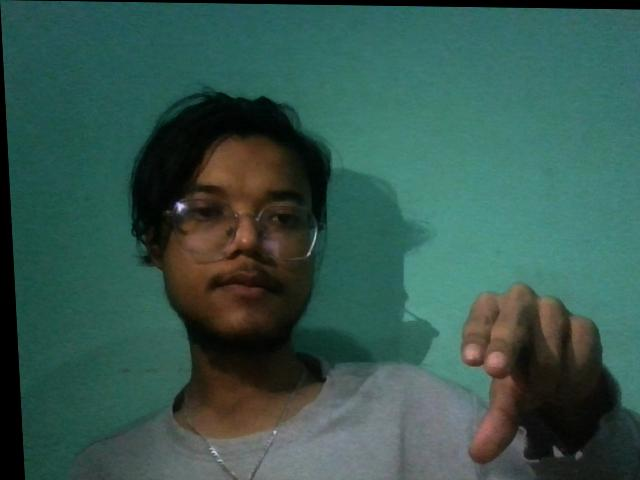No: (420, 266, 619, 471)
